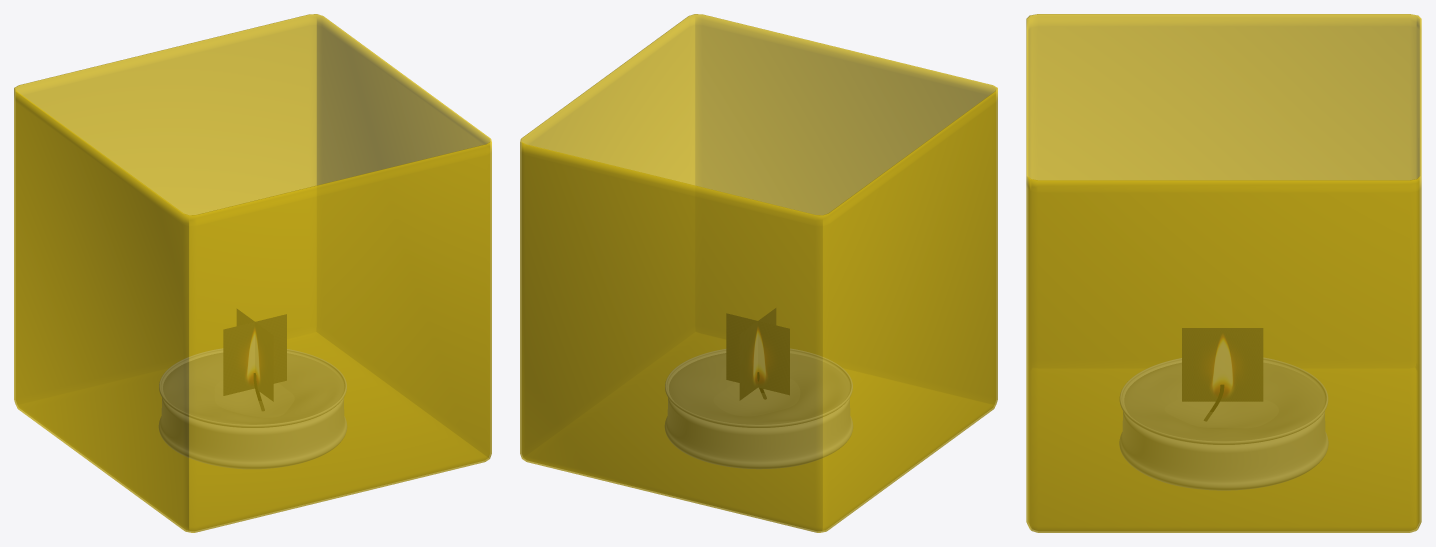
Rendered from yellow_lantern_water_lantern.glb.
The picture shows the model from 3 angles, left to right: view 1: azimuth 30°, elevation 25°; view 2: azimuth 150°, elevation 25°; view 3: azimuth 270°, elevation 25°; orthographic projection. The views are drawn at different scales.
Parts seen in each view (by area): view 1: Yellow Lantern_3, Candle.002_2, Plane.007_5, Plane.006_4; view 2: Yellow Lantern_3, Candle.002_2, Plane.007_5, Plane.006_4; view 3: Yellow Lantern_3, Candle.002_2, Plane.006_4.
Part boxes in pixels (bbox=[...]): Yellow Lantern_3: bbox=[14, 14, 491, 532]; Candle.002_2: bbox=[159, 348, 346, 468]; Plane.007_5: bbox=[223, 314, 286, 395]; Plane.006_4: bbox=[237, 309, 273, 400]; Yellow Lantern_3: bbox=[520, 14, 997, 532]; Candle.002_2: bbox=[665, 349, 852, 468]; Plane.007_5: bbox=[726, 314, 789, 394]; Plane.006_4: bbox=[740, 308, 775, 399]; Yellow Lantern_3: bbox=[1026, 14, 1421, 532]; Candle.002_2: bbox=[1119, 358, 1328, 490]; Plane.006_4: bbox=[1182, 328, 1262, 401].
Bounding box in the file's own units: 2.02 × 2.01 × 2.02.
